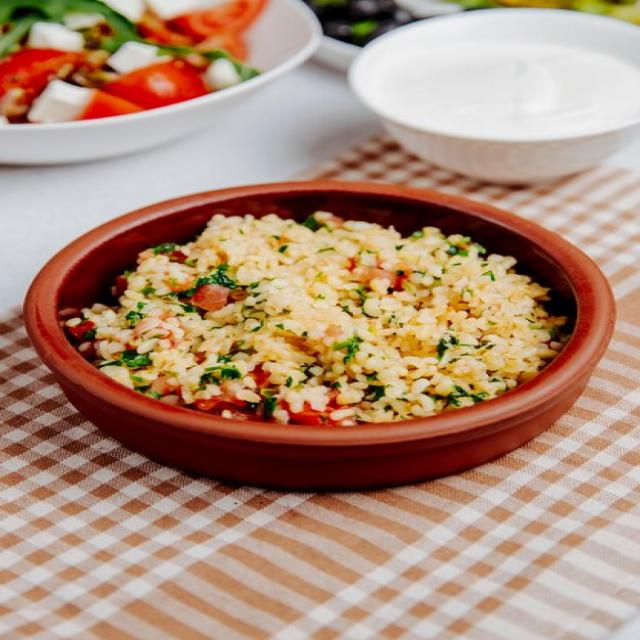UPMA: (75, 210, 562, 421)
